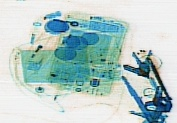lighter: (24, 28, 62, 70)
